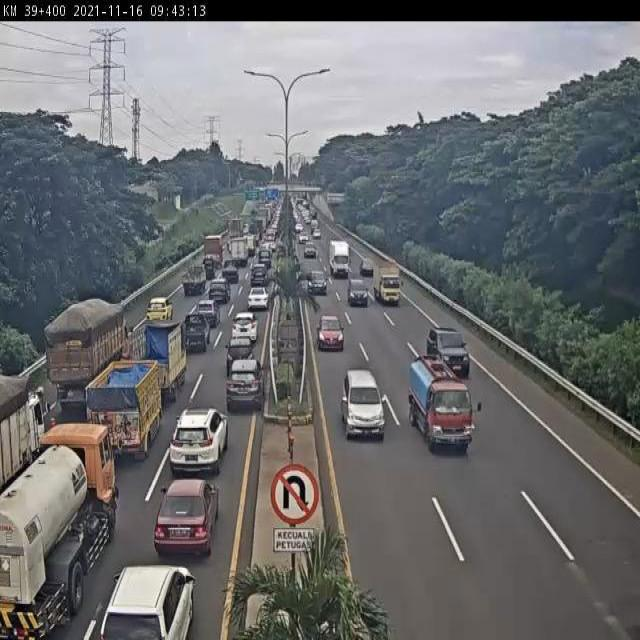car: (97, 556, 201, 640), (152, 476, 219, 560), (166, 405, 228, 472), (336, 368, 389, 440), (220, 360, 268, 421), (423, 324, 471, 384), (222, 332, 259, 376), (313, 309, 347, 352), (187, 299, 221, 332), (143, 296, 174, 328), (230, 314, 261, 346), (344, 275, 370, 308), (241, 287, 269, 316), (182, 264, 208, 295), (203, 280, 229, 308), (219, 255, 241, 285), (306, 270, 328, 294), (358, 257, 377, 283), (248, 268, 269, 291), (255, 248, 276, 268), (301, 238, 318, 258)
small truck: (403, 352, 484, 453), (372, 262, 404, 310), (177, 315, 211, 357), (326, 240, 353, 280), (229, 235, 250, 269)
truck-l-: (34, 300, 126, 423), (0, 369, 51, 491)
truck-m-: (0, 417, 124, 640), (87, 360, 163, 460), (128, 322, 193, 407)
